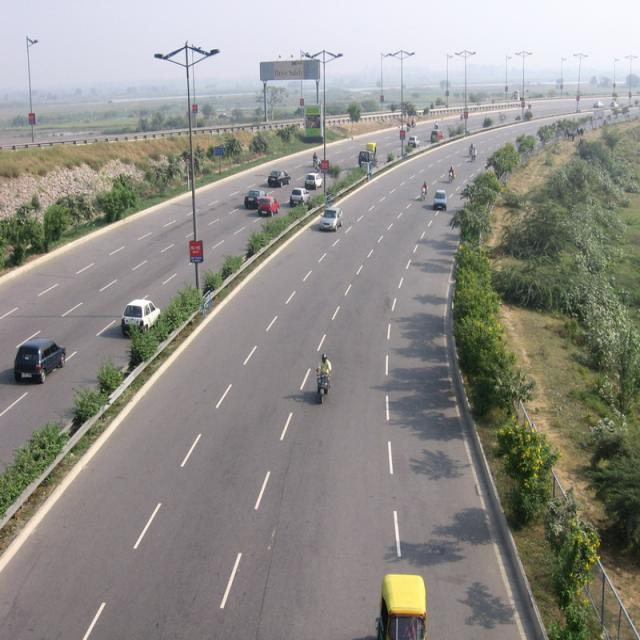Clean road: (0, 198, 567, 640)
